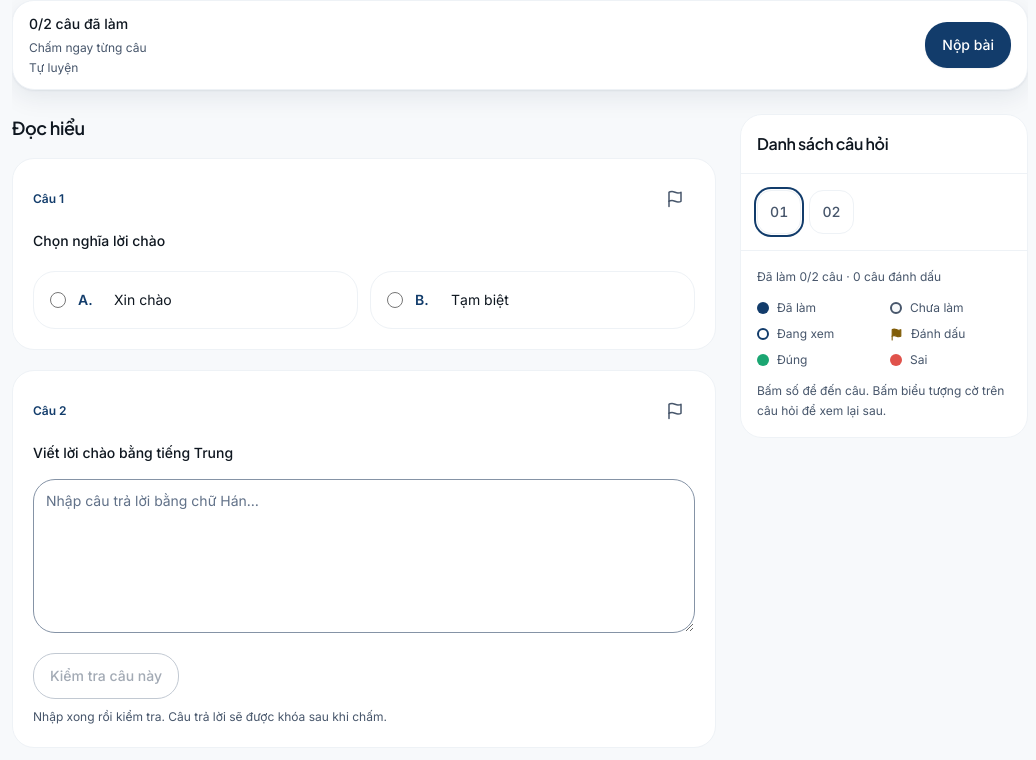
Test: checks typed text only on explicit confirmation and reuses answer normalization
Expected: the button "Kiểm tra câu này" is disabled, [33,653,179,699]
Type " 你好！ " into the text box at (364, 556), box [33,479,695,633]
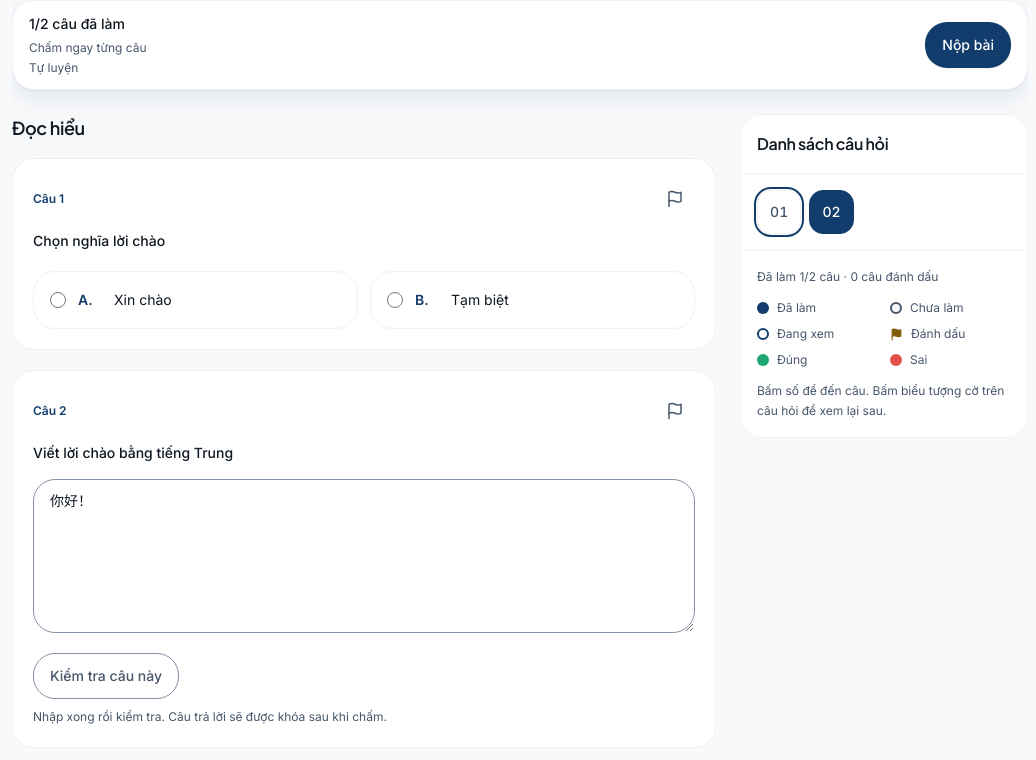
Expected: the text "Chính xác" is not shown
Click the button "Kiểm tra câu này" at (106, 676), box [33,653,179,699]
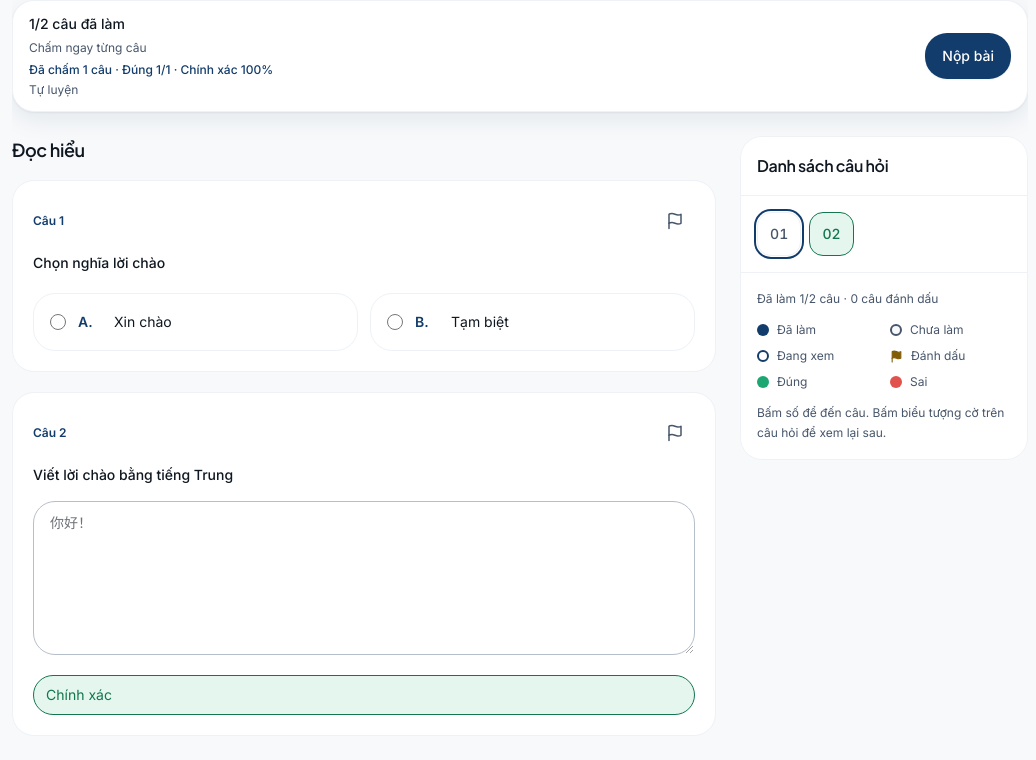
Now the text "Chính xác" is shown, box [33,675,695,715]
Now the text box is disabled, box [33,501,695,655]
Now the text "Đã chấm 1 câu · Đúng 1/1 · Chính xác 100%" is shown, box [29,61,273,79]
